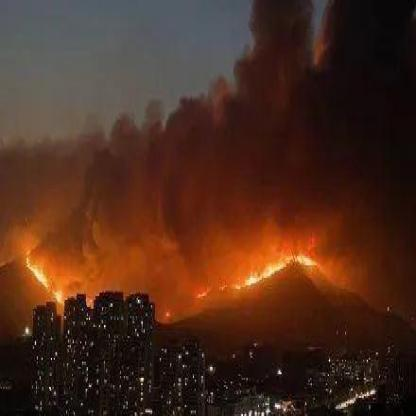fire: (190, 221, 330, 293), (25, 220, 76, 318)
smoke: (73, 21, 404, 270)
